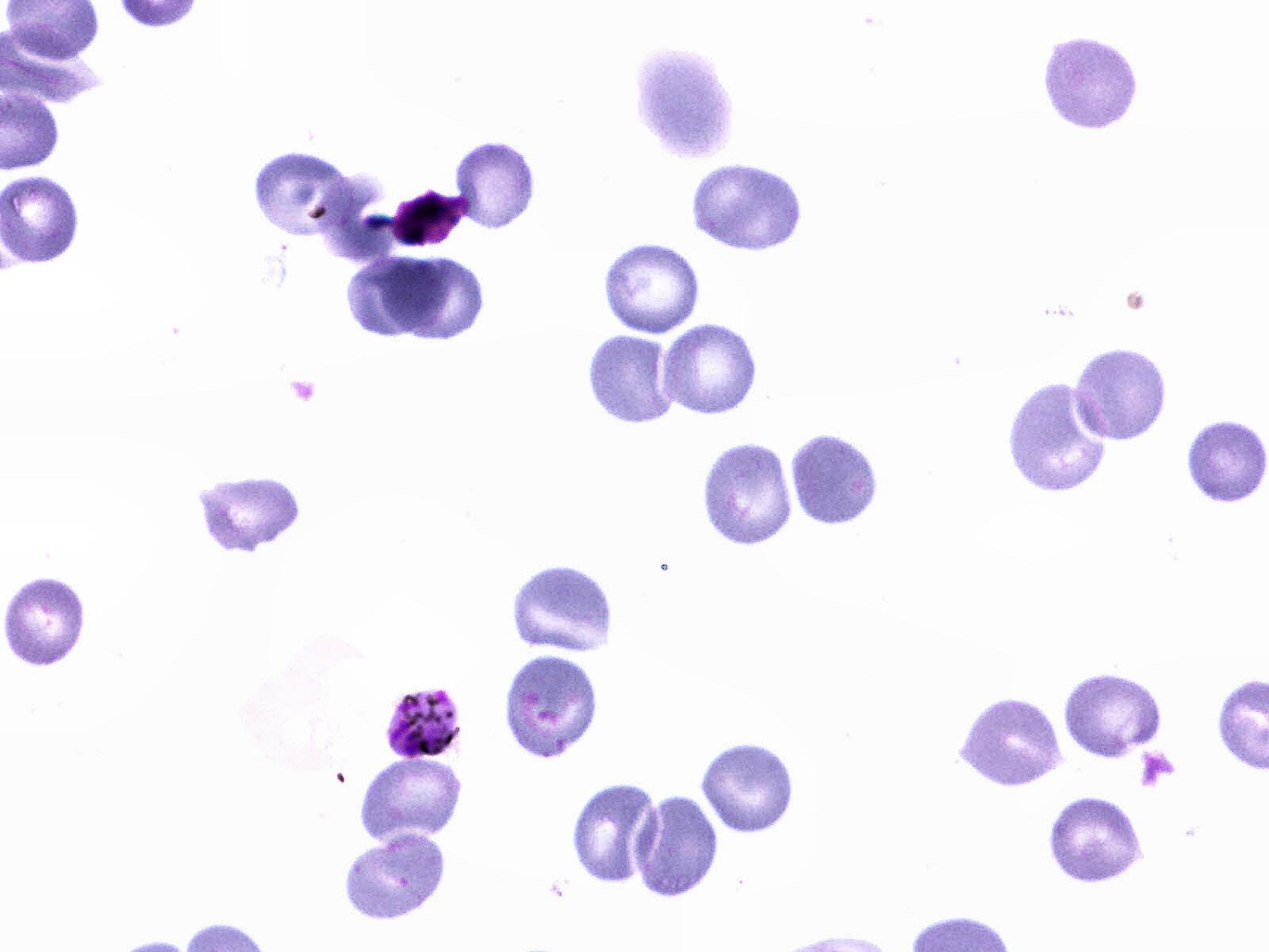Infected: (386, 687, 459, 761)
Uninfected: (1005, 385, 1110, 493), (627, 786, 721, 901), (691, 161, 804, 254), (703, 438, 795, 551), (506, 651, 600, 761), (959, 696, 1064, 794), (1045, 31, 1144, 134), (638, 46, 727, 160), (1068, 345, 1168, 443), (657, 321, 758, 416), (344, 831, 449, 921), (574, 781, 661, 887), (589, 328, 685, 424), (251, 149, 357, 235), (1060, 673, 1160, 762), (1046, 797, 1148, 884), (365, 754, 462, 843), (701, 742, 794, 832), (387, 252, 485, 337), (343, 256, 448, 334), (607, 241, 696, 332), (513, 569, 611, 650), (197, 475, 301, 550), (792, 432, 875, 524), (456, 138, 539, 227), (6, 575, 86, 667), (1187, 419, 1267, 501)
